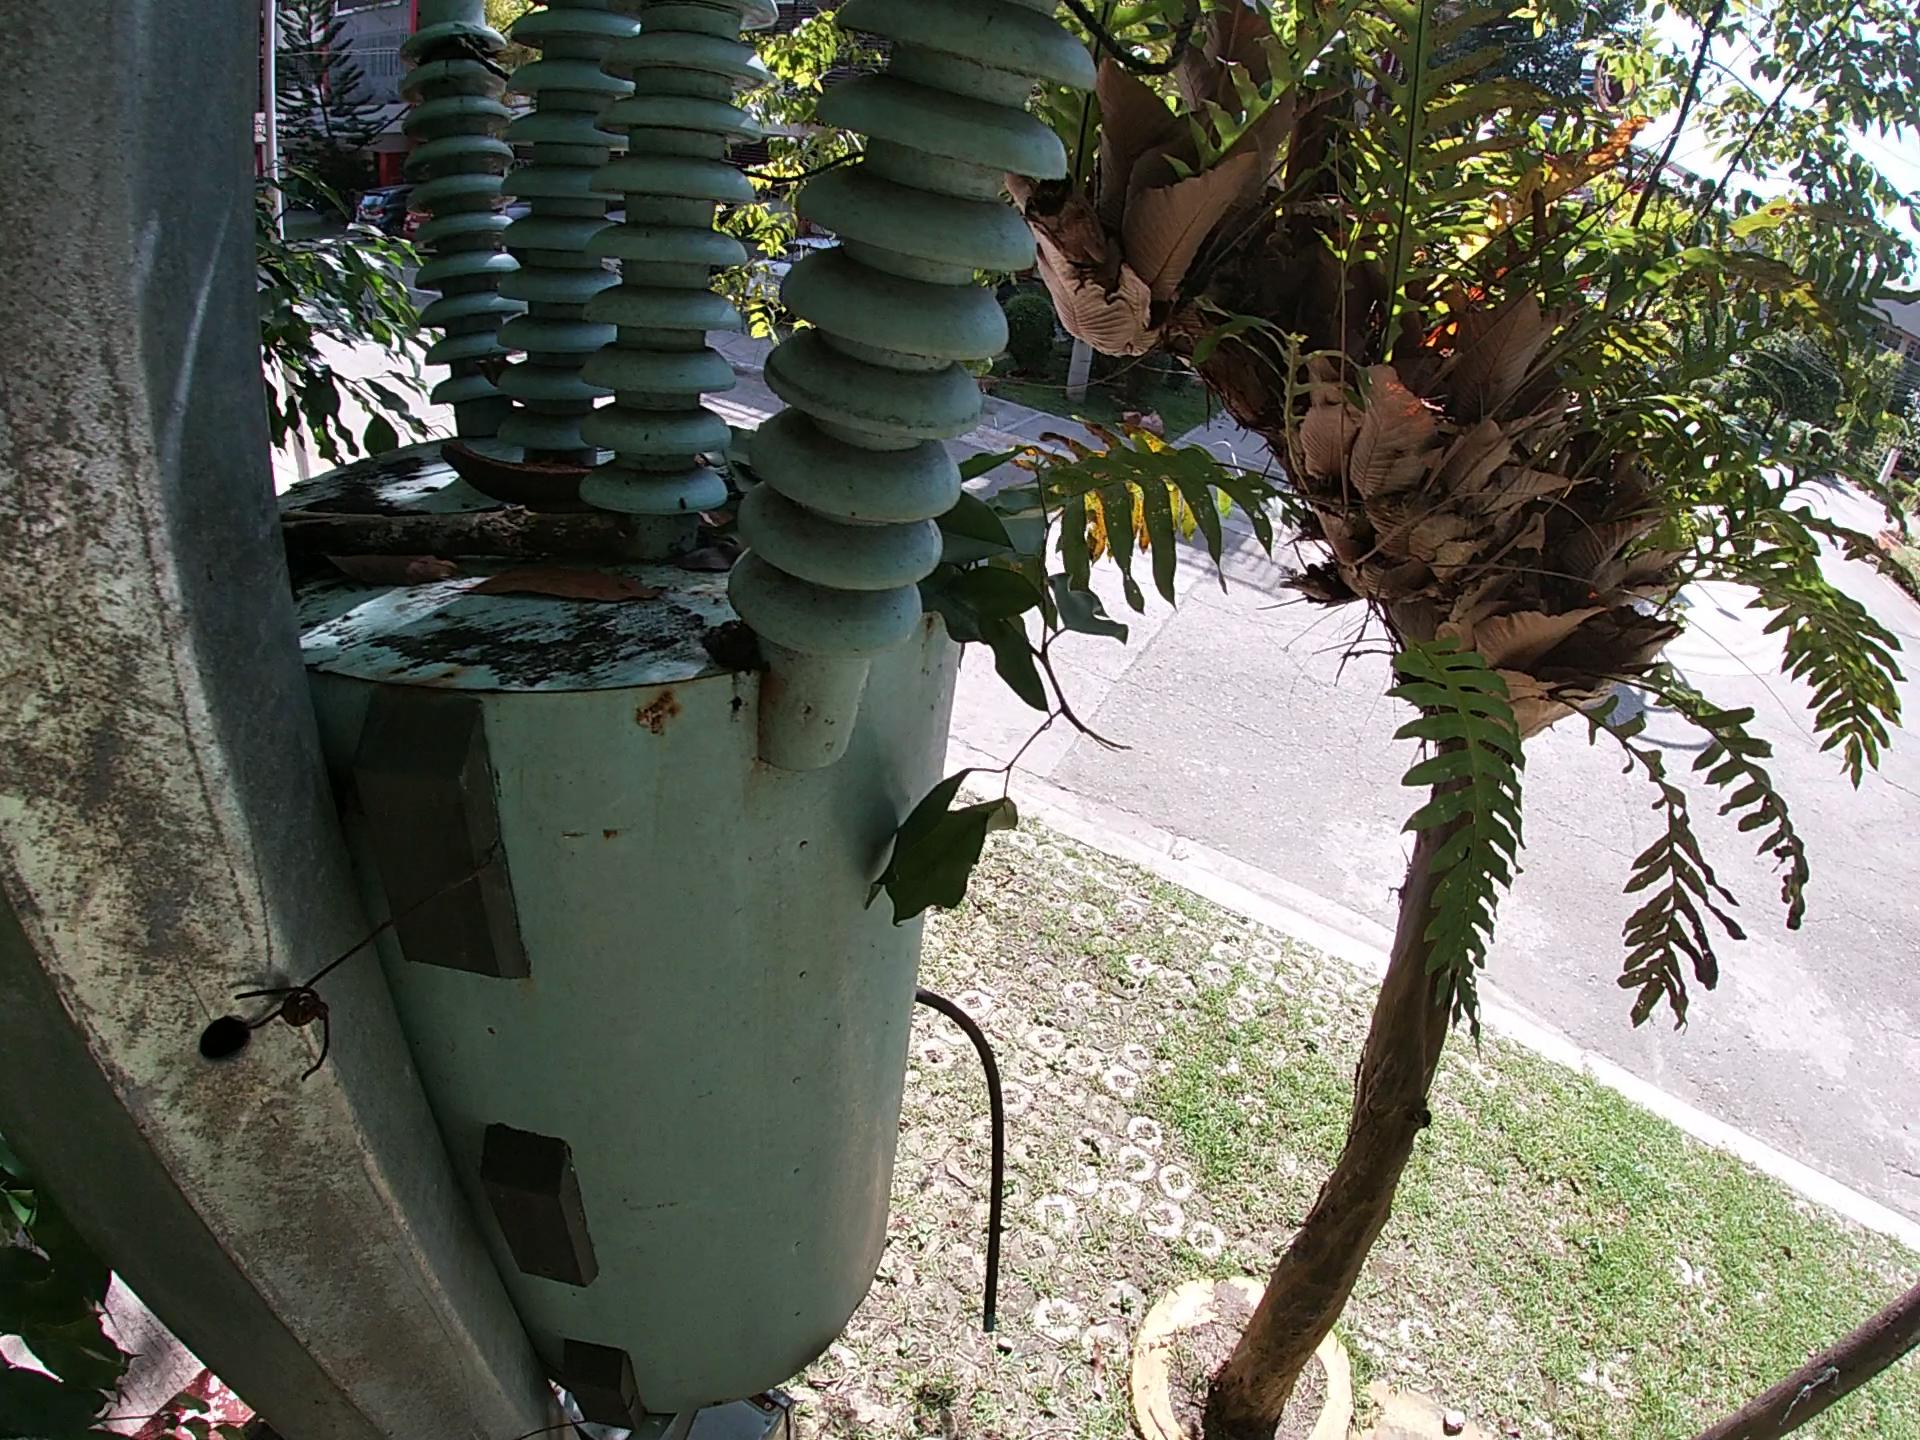branch with leaves: (863, 448, 1132, 1010)
leaf: (692, 392, 798, 601), (467, 570, 661, 629), (305, 557, 469, 579)
mahogany fruit: (437, 434, 609, 495)
tree branch: (280, 505, 656, 545)
